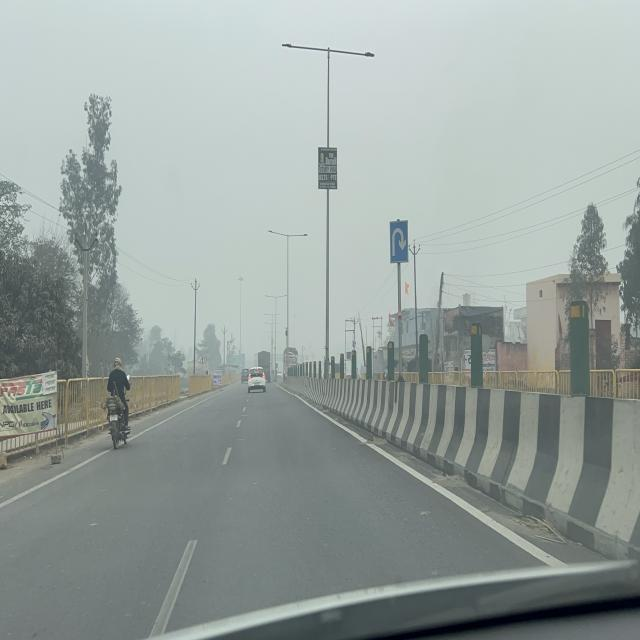SIDE_ROAD_LEFT: (199, 354, 206, 363)
U_TURN: (389, 219, 408, 264)
